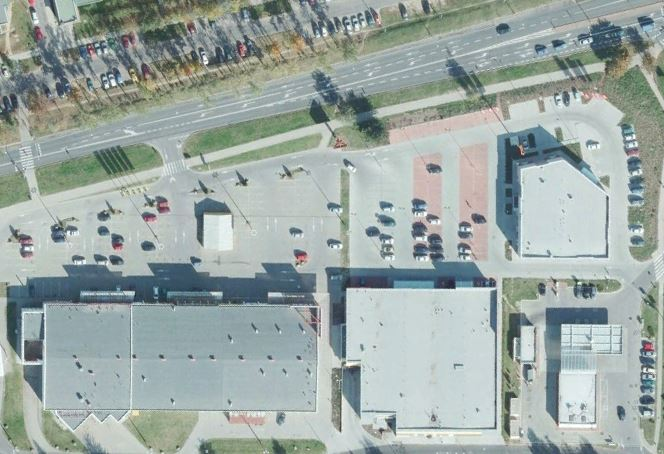shopping_center: (19, 299, 326, 417), (336, 279, 503, 440), (506, 149, 614, 261)
